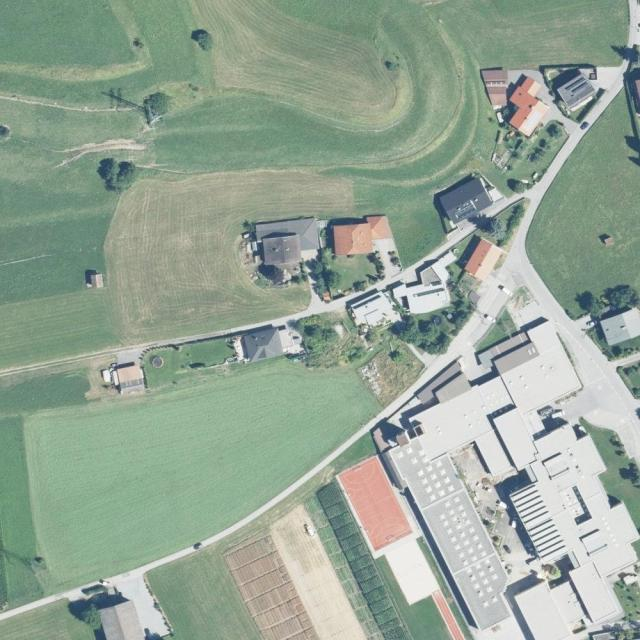building: (386, 428, 526, 633), (386, 251, 473, 328), (408, 386, 497, 461), (500, 344, 581, 417), (509, 482, 569, 564), (497, 75, 559, 139), (567, 558, 623, 627), (411, 359, 474, 413), (255, 217, 322, 267), (491, 407, 543, 471), (515, 582, 572, 640), (437, 175, 494, 228), (348, 289, 401, 339), (241, 323, 305, 363), (476, 330, 533, 371), (548, 580, 590, 632), (472, 429, 514, 480), (555, 71, 599, 115), (532, 423, 579, 462), (599, 307, 640, 347), (492, 341, 540, 375), (475, 376, 512, 415), (332, 222, 373, 256), (462, 237, 494, 277), (481, 67, 510, 110), (526, 320, 561, 355), (116, 362, 146, 395), (367, 212, 392, 242), (521, 409, 546, 436)
greenland: (0, 0, 628, 369), (0, 357, 385, 606), (143, 543, 261, 640), (325, 432, 379, 475)
metalled_road: (108, 427, 405, 640), (323, 218, 582, 425), (510, 56, 636, 236), (217, 309, 311, 339), (480, 187, 525, 221), (438, 219, 475, 253), (306, 296, 350, 314), (411, 250, 442, 273), (402, 265, 408, 271)
